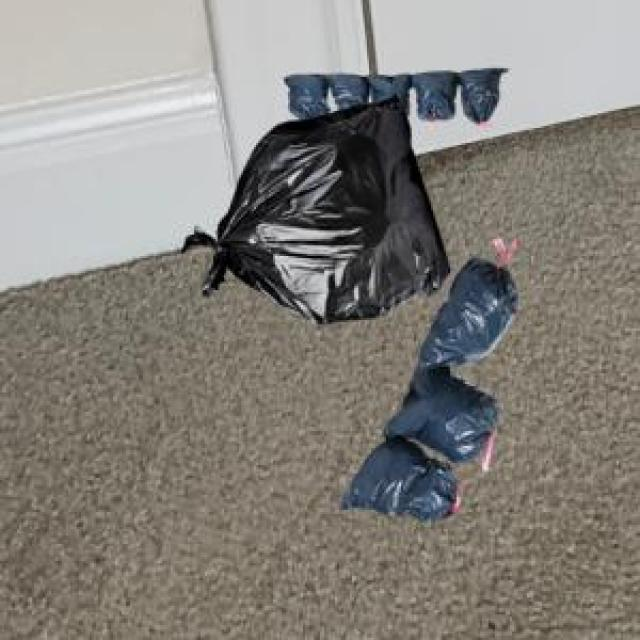Vinyl: (202, 69, 502, 322), (342, 239, 518, 518)
